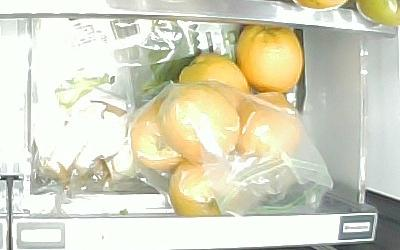orange: (235, 25, 304, 94), (178, 51, 249, 107)
orange_vinyl: (158, 85, 240, 165), (169, 158, 240, 219), (237, 96, 303, 160), (129, 99, 182, 174)
